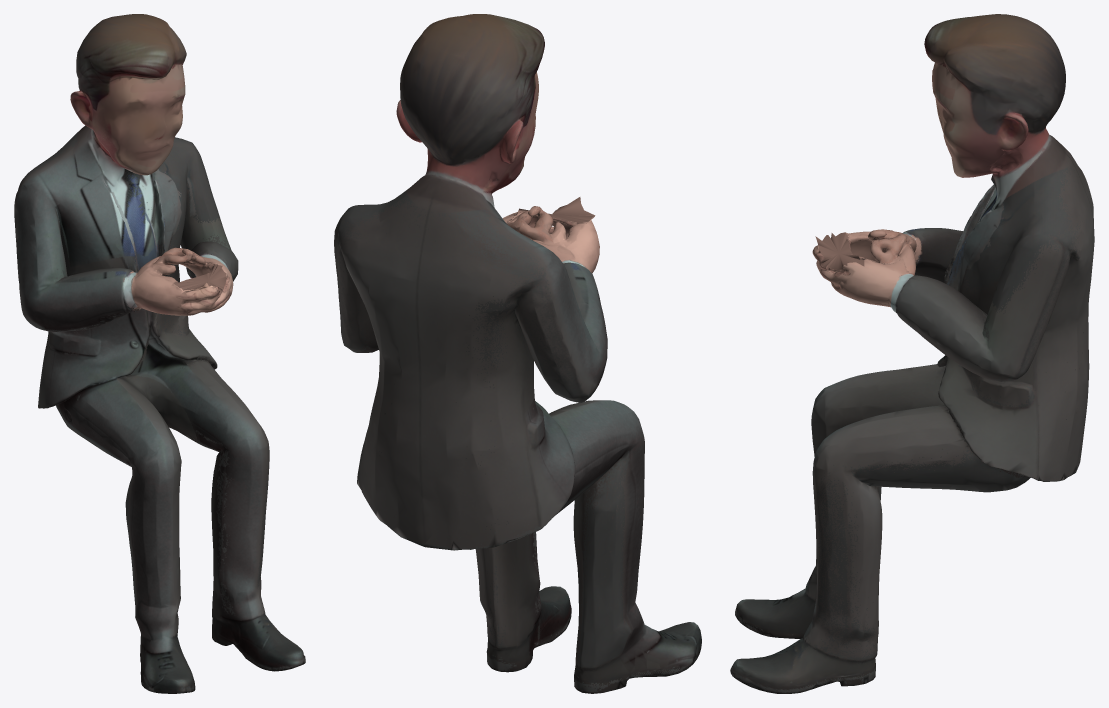
File: user_c_sit_phone.glb
3 views of the same model, side by side, from view 1: azimuth 30°, elevation 25°; view 2: azimuth 150°, elevation 25°; view 3: azimuth 270°, elevation 25° (orthographic). The views are drawn at different scales.
Parts seen in each view (by area): view 1: geometry_0; view 2: geometry_0; view 3: geometry_0.
Part boxes in pixels (x1,y1,x2,y2): geometry_0: [14, 14, 305, 693]; geometry_0: [334, 14, 701, 693]; geometry_0: [730, 14, 1094, 693].
Size of the model in its own units: 0.3712 by 0.9997 by 0.517.
Materials: 1 (1 with a texture image).
